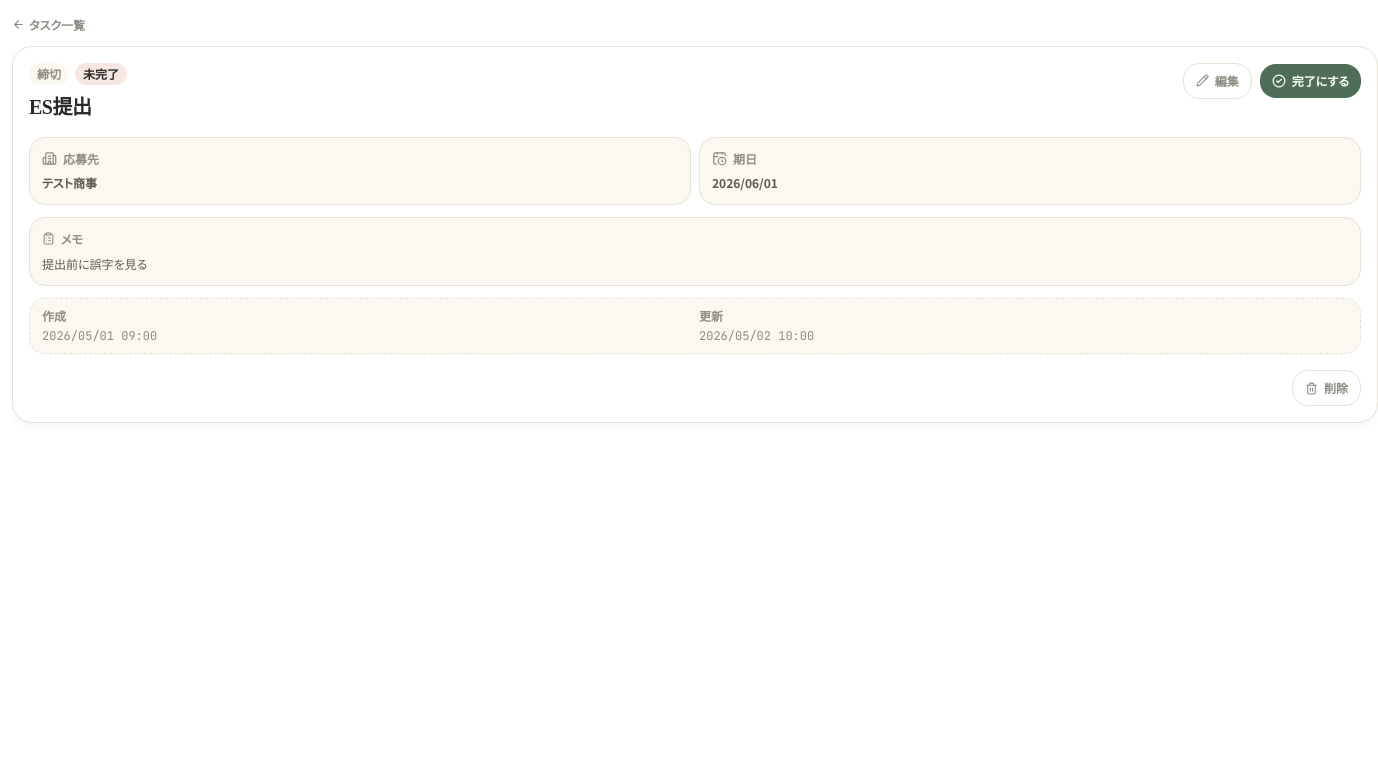
Test: TaskDetailView › 編集フォームのキャンセルで変更を破棄して表示モードに戻る
The width and height of the screenshot is (1378, 780).
Click the button "編集" at [1217, 80], box [1183,62,1252,98]
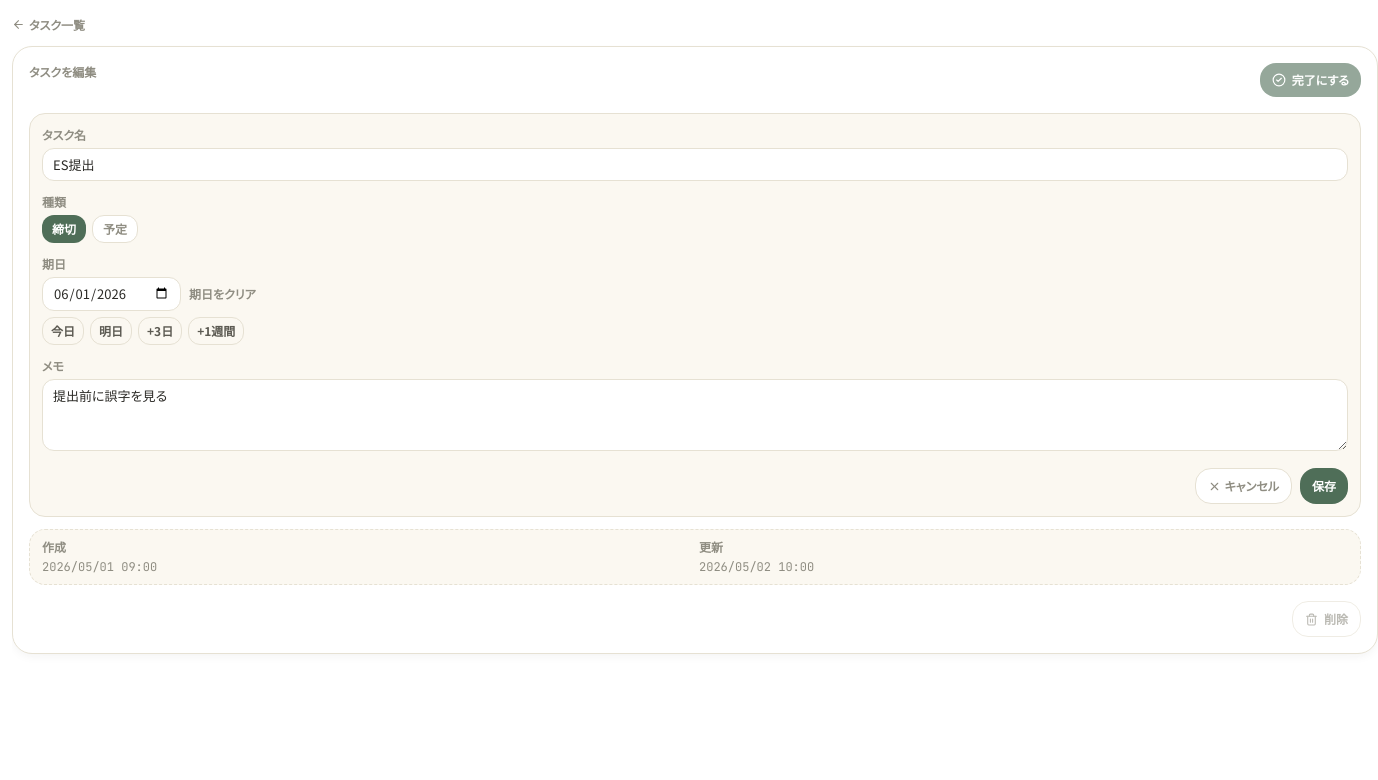
Replace the text in the field labelled "タスク名" with "破棄されるタイトル" at [695, 164], box [42,148,1348,181]
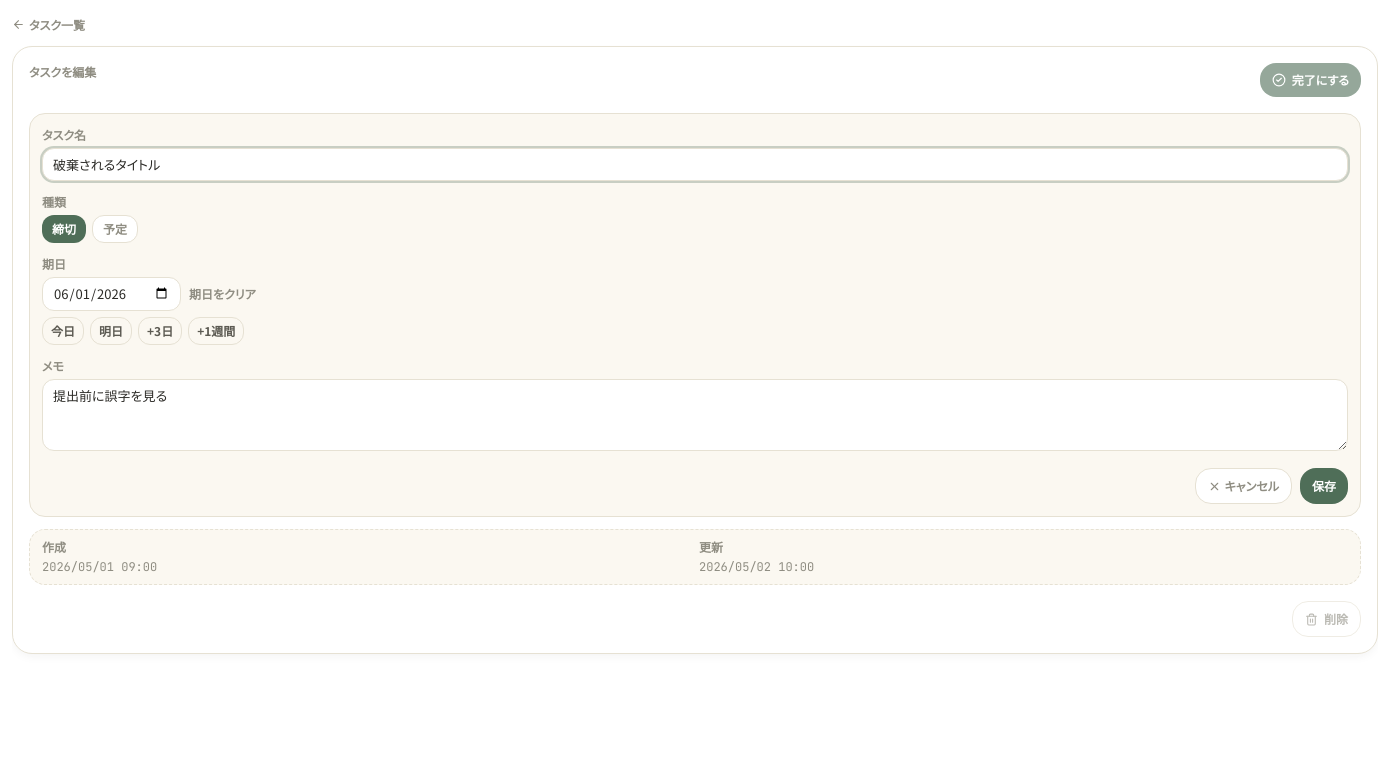
Click the button "キャンセル" at [1243, 486], box [1195,468,1292,504]
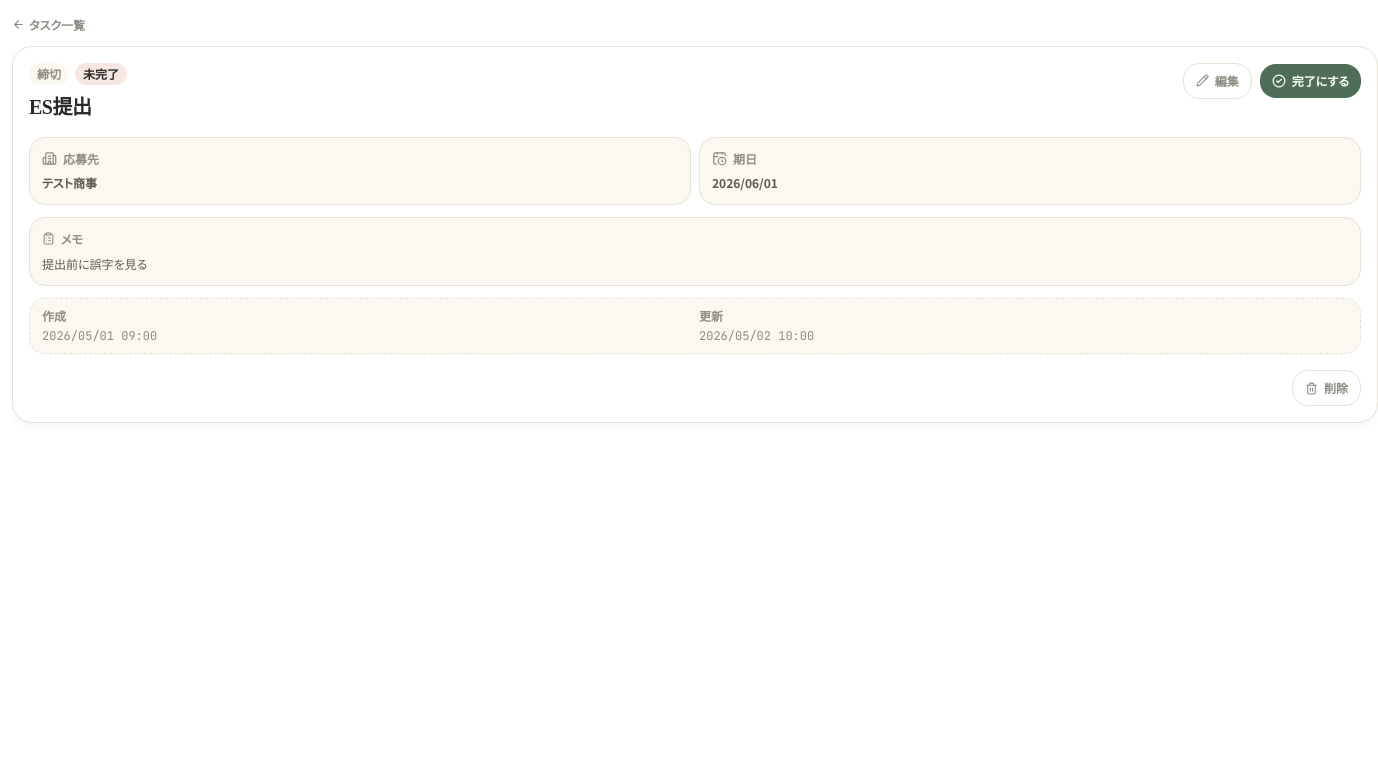
Expected: the heading "ES提出" is shown, [29,96,92,118]
